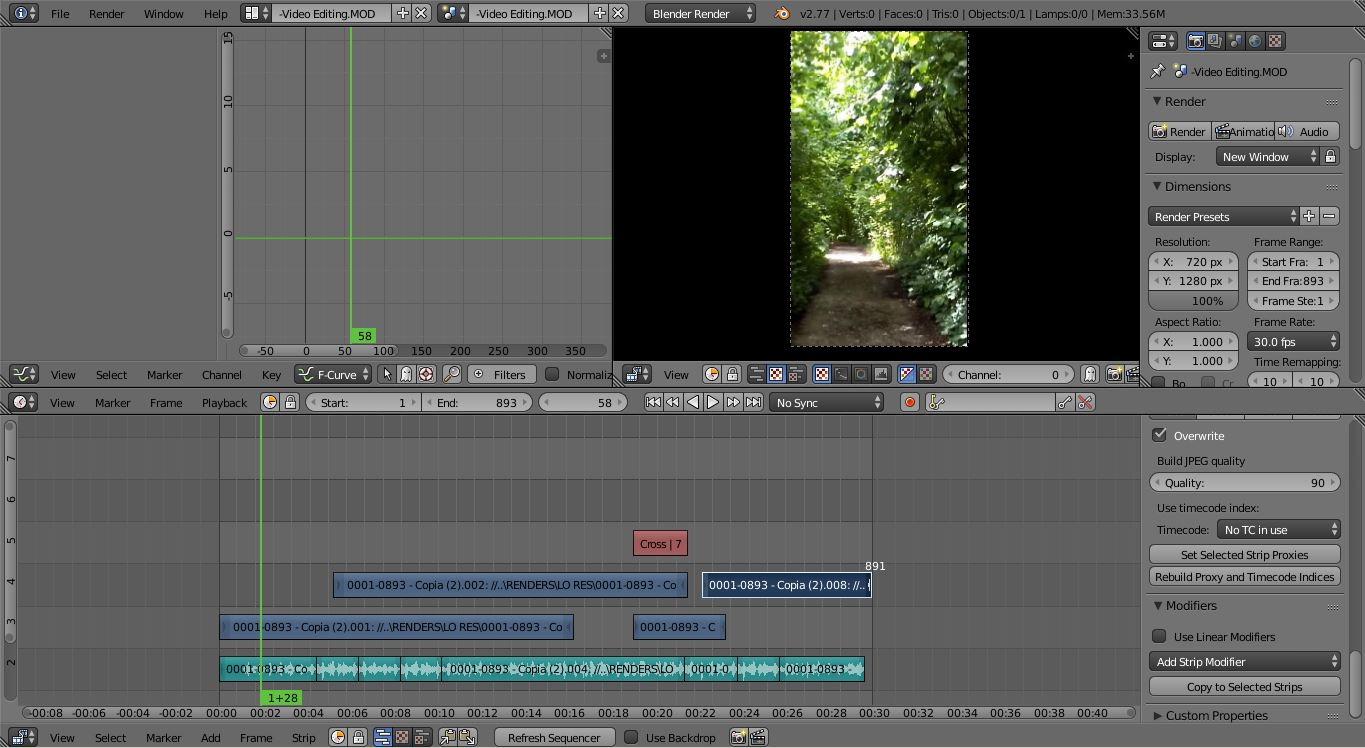button: (333, 572, 688, 598), (219, 614, 574, 640), (443, 656, 684, 682), (703, 572, 872, 598), (1147, 650, 1341, 671), (1149, 566, 1341, 586), (1149, 546, 1341, 564), (1149, 678, 1341, 696), (3, 420, 18, 643), (1148, 206, 1299, 226), (494, 726, 616, 748), (219, 655, 317, 682), (1216, 519, 1342, 540), (924, 393, 1056, 411), (633, 615, 726, 640), (770, 392, 884, 412), (780, 657, 866, 682), (1216, 146, 1319, 166), (1247, 332, 1339, 351), (633, 530, 688, 556), (293, 366, 371, 384), (1274, 121, 1340, 141), (683, 658, 738, 682), (1148, 121, 1212, 141), (466, 365, 537, 383), (1212, 121, 1275, 141), (1161, 350, 1224, 370), (136, 364, 195, 385), (135, 392, 196, 412), (136, 726, 191, 748), (1350, 58, 1363, 149), (195, 364, 251, 385), (135, 3, 193, 23), (196, 392, 251, 412), (86, 726, 136, 748), (81, 3, 133, 24), (400, 656, 442, 682), (316, 657, 359, 682), (233, 726, 281, 748), (738, 657, 779, 682), (87, 364, 135, 385), (360, 657, 400, 682), (40, 727, 87, 748), (39, 364, 85, 385), (86, 392, 136, 411), (191, 726, 232, 748), (194, 3, 236, 24), (282, 727, 324, 748), (40, 3, 81, 24), (41, 392, 86, 411), (251, 365, 291, 385), (437, 3, 469, 24), (239, 2, 272, 22), (1148, 31, 1178, 52), (621, 365, 654, 384), (9, 392, 39, 412), (7, 727, 37, 747), (9, 3, 39, 22), (10, 365, 39, 384), (746, 363, 767, 385), (412, 726, 434, 747), (1074, 393, 1097, 413), (1319, 146, 1340, 167), (347, 727, 368, 748), (372, 727, 393, 748), (1147, 60, 1167, 82), (767, 363, 787, 385), (392, 2, 412, 23), (413, 2, 433, 23), (588, 2, 609, 22), (609, 2, 629, 23), (1299, 206, 1320, 226), (1319, 206, 1340, 226), (702, 364, 723, 384), (1105, 364, 1126, 384), (723, 391, 743, 412), (328, 727, 348, 748), (457, 728, 478, 748), (728, 727, 748, 748), (916, 364, 938, 383), (393, 726, 412, 748), (749, 726, 768, 748), (1186, 31, 1206, 51), (1206, 31, 1226, 51), (1226, 31, 1246, 51), (1266, 31, 1286, 51), (417, 364, 437, 384), (812, 364, 832, 384), (832, 364, 852, 384), (722, 364, 741, 385), (788, 363, 807, 384), (663, 393, 684, 412), (1247, 31, 1266, 51), (396, 364, 416, 383), (897, 363, 916, 383), (684, 393, 704, 412), (704, 392, 723, 412), (900, 392, 920, 411), (438, 728, 457, 748), (854, 364, 872, 385), (874, 364, 892, 385), (378, 364, 397, 383), (645, 393, 664, 412), (744, 393, 763, 412), (442, 365, 462, 383), (1080, 365, 1100, 383), (260, 393, 279, 411), (278, 394, 298, 411), (1056, 393, 1074, 411), (1324, 291, 1341, 310), (1325, 270, 1341, 290), (1224, 269, 1239, 290), (1149, 470, 1163, 492), (1325, 472, 1341, 491), (1150, 628, 1167, 645), (1224, 252, 1240, 270), (1325, 252, 1341, 270), (1224, 350, 1238, 370), (742, 2, 755, 23), (1148, 178, 1165, 194), (1150, 427, 1168, 442), (614, 393, 628, 412), (1149, 270, 1162, 290), (1248, 270, 1261, 290), (1248, 290, 1261, 310), (1224, 333, 1239, 350), (597, 49, 614, 64), (517, 393, 531, 411), (539, 393, 553, 411), (1148, 599, 1166, 613), (1148, 350, 1161, 369), (1126, 364, 1139, 383), (408, 393, 421, 412), (1149, 94, 1164, 110), (623, 729, 638, 745), (1149, 252, 1162, 270), (422, 393, 435, 411), (544, 368, 559, 382), (1248, 253, 1261, 269), (1293, 372, 1306, 388), (307, 394, 320, 410), (1147, 710, 1165, 721), (1149, 334, 1161, 350), (1248, 372, 1260, 388), (1280, 372, 1292, 388), (1327, 372, 1339, 388), (943, 365, 954, 382), (1062, 365, 1073, 382), (1151, 376, 1166, 388), (1200, 377, 1216, 388)
common: (797, 3, 1170, 23), (1172, 630, 1283, 645), (1190, 65, 1289, 80), (642, 729, 717, 748), (1252, 355, 1343, 370), (1154, 522, 1212, 538), (1153, 149, 1199, 166), (565, 368, 614, 383), (657, 367, 696, 384), (1172, 430, 1227, 441), (1260, 372, 1280, 388), (1306, 372, 1327, 387), (1171, 377, 1187, 387), (1221, 378, 1235, 388)
container: (1, 415, 1141, 724), (1, 27, 613, 388), (614, 26, 1141, 387), (1140, 27, 1365, 389), (1140, 415, 1349, 725), (1141, 416, 1349, 594), (1, 389, 1365, 415), (1, 1, 1364, 26), (1, 726, 1365, 748), (1141, 593, 1349, 703), (1, 362, 612, 387), (1146, 233, 1242, 314), (1247, 234, 1345, 313), (1246, 313, 1346, 388), (39, 725, 324, 748), (1146, 313, 1240, 370), (39, 365, 292, 386), (306, 392, 533, 413), (40, 2, 238, 26), (40, 391, 252, 413), (436, 1, 630, 24), (1350, 57, 1363, 384), (239, 1, 432, 23), (2, 420, 17, 701), (1140, 703, 1347, 723), (1147, 121, 1341, 142), (1152, 520, 1340, 541), (1149, 472, 1343, 492), (924, 392, 1098, 413), (1145, 626, 1288, 647), (644, 1, 756, 24), (644, 392, 763, 413), (942, 365, 1075, 383), (943, 365, 1075, 383), (306, 393, 422, 412), (1186, 31, 1289, 52), (1148, 290, 1239, 313), (422, 393, 531, 412), (622, 727, 719, 748), (1247, 270, 1341, 291), (1147, 270, 1239, 291), (1148, 351, 1241, 371), (1248, 291, 1340, 311), (538, 392, 629, 412), (1247, 252, 1341, 271), (1147, 332, 1240, 351), (812, 364, 892, 385), (1147, 252, 1240, 270), (1149, 426, 1232, 444), (372, 725, 435, 748), (377, 364, 438, 385), (747, 364, 808, 385), (328, 726, 369, 748), (728, 726, 769, 748), (702, 364, 743, 385), (438, 727, 478, 748), (897, 364, 938, 384), (260, 393, 299, 413), (1104, 365, 1140, 384)
header: (1154, 498, 1262, 516), (1164, 709, 1272, 722), (1155, 454, 1247, 469), (1250, 234, 1328, 251), (1251, 314, 1319, 331), (1153, 316, 1227, 330), (1165, 179, 1232, 194), (1153, 235, 1214, 250), (1165, 598, 1222, 613), (1164, 95, 1208, 108)
image: (612, 28, 1139, 362), (221, 29, 611, 360), (771, 3, 794, 23), (1169, 61, 1189, 82)
text-input: (1162, 471, 1325, 491), (272, 2, 391, 23), (469, 4, 589, 23), (644, 2, 742, 24), (1148, 290, 1239, 311), (954, 365, 1060, 382), (1261, 291, 1324, 310), (1265, 270, 1324, 290), (1261, 252, 1324, 270), (1161, 332, 1224, 350), (1163, 252, 1226, 269), (1261, 253, 1324, 270)
